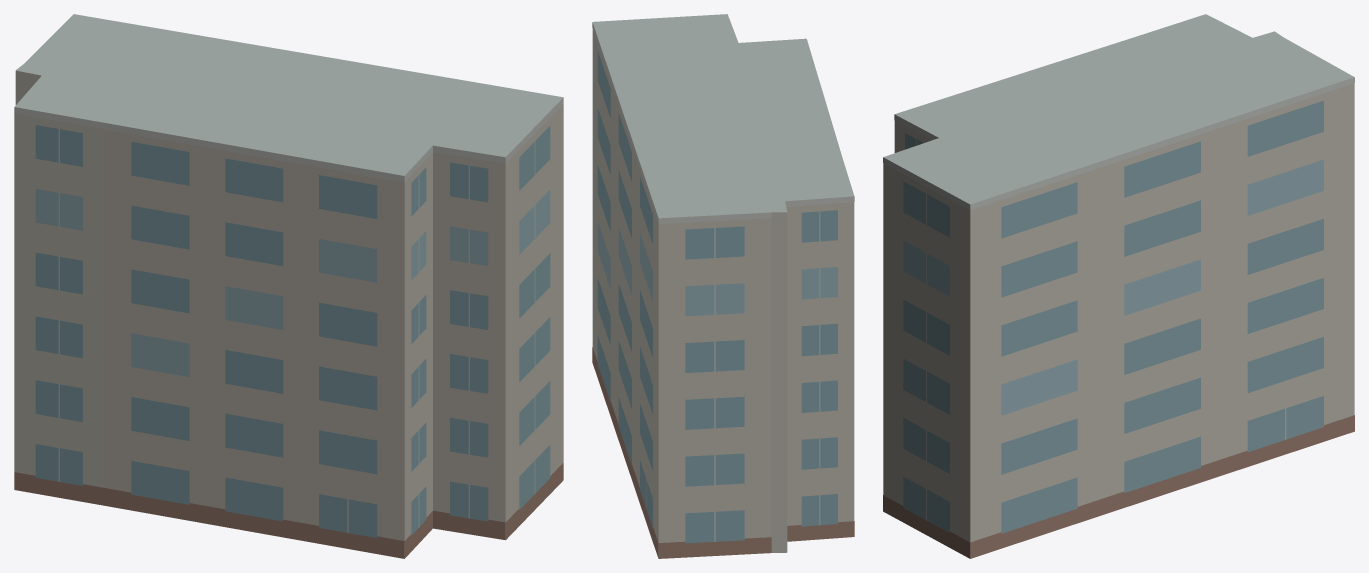
File: survey-upis-32774447.glb
3 renders of one model, left to right at view 1: azimuth 30°, elevation 25°; view 2: azimuth 150°, elevation 25°; view 3: azimuth 270°, elevation 25°, orthographic. The views are drawn at different scales.
Visible parts, largest first — view 1: survey-upis-32774447.tmp; view 2: survey-upis-32774447.tmp; view 3: survey-upis-32774447.tmp.
Part boxes in pixels (x1,y1,x2,y2): survey-upis-32774447.tmp: [14, 14, 563, 558]; survey-upis-32774447.tmp: [592, 14, 854, 558]; survey-upis-32774447.tmp: [883, 14, 1354, 558].
Bounding box in the file's own units: 16.67 × 14.45 × 17.44.
